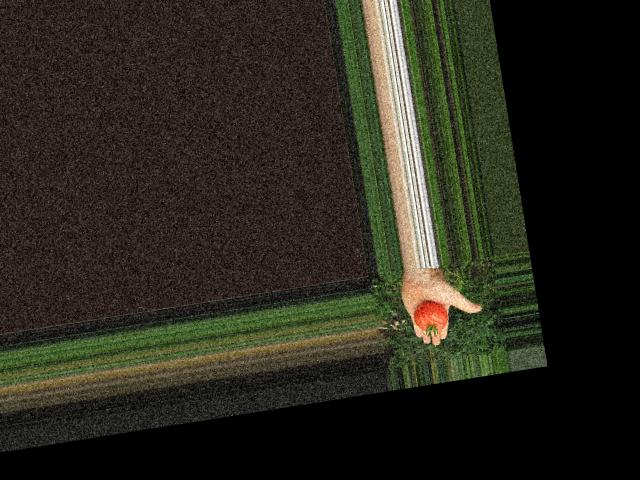tomato: (410, 298, 449, 333)
